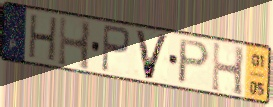H: (56, 14, 93, 74), (210, 40, 247, 99), (26, 13, 60, 65)
P: (176, 37, 213, 86), (99, 23, 132, 76)
V: (133, 28, 171, 82)
